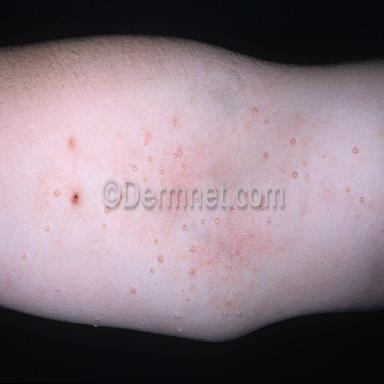Molluscum-Contagiosum: (54, 190, 60, 197), (104, 206, 110, 213), (353, 147, 359, 154), (22, 253, 27, 261), (158, 255, 163, 263), (44, 226, 50, 232), (131, 287, 136, 294), (215, 218, 220, 225), (200, 218, 205, 225), (132, 165, 137, 172), (293, 171, 298, 178), (177, 148, 181, 156), (182, 225, 187, 231), (190, 247, 195, 253), (260, 205, 265, 211), (229, 207, 234, 213), (190, 269, 195, 275), (143, 139, 148, 145), (236, 312, 241, 318), (150, 268, 155, 273), (175, 314, 180, 319), (160, 169, 164, 175), (173, 153, 177, 159), (264, 152, 268, 158), (292, 139, 296, 145), (360, 197, 364, 203), (45, 200, 49, 205), (267, 217, 271, 222), (182, 164, 186, 169), (345, 187, 349, 192), (186, 297, 191, 301), (155, 239, 158, 245), (103, 224, 107, 228), (181, 289, 185, 293), (252, 110, 255, 115), (266, 120, 269, 125), (305, 175, 309, 178)
